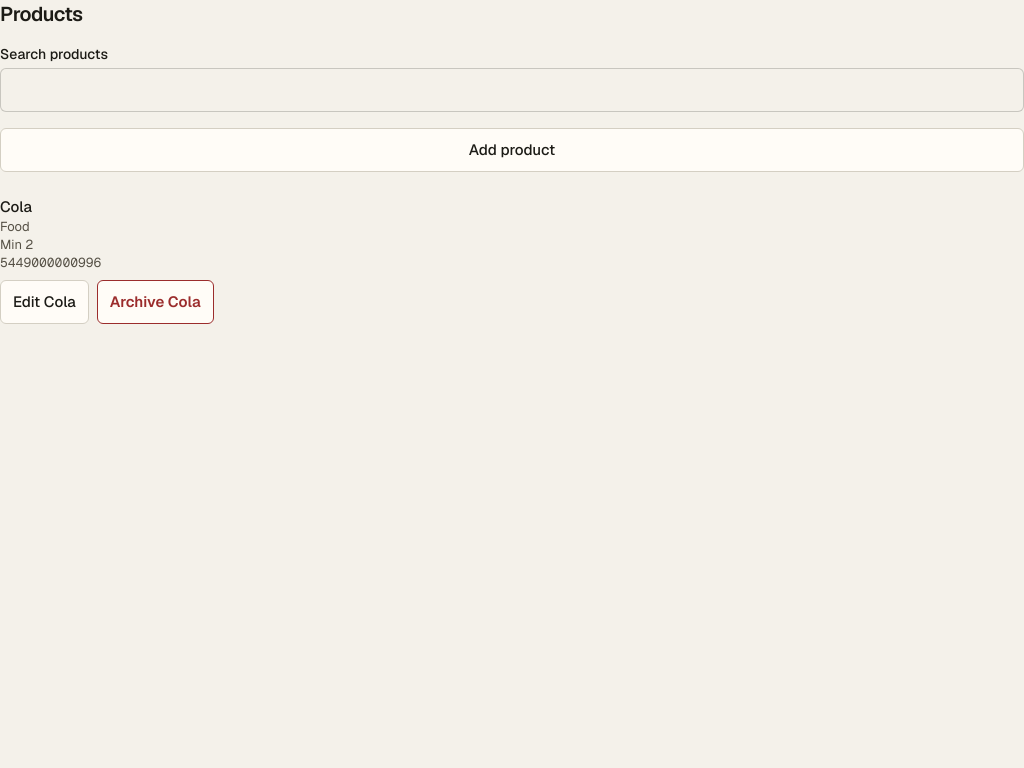
Test: ProductsScreen › shows a barcode on the product card and only on create
Expected: the text "5449000000996" is shown, x1=0 y1=254 x2=101 y2=271
Click the button "Edit Cola" at (44, 302), box x1=0 y1=280 x2=89 y2=324
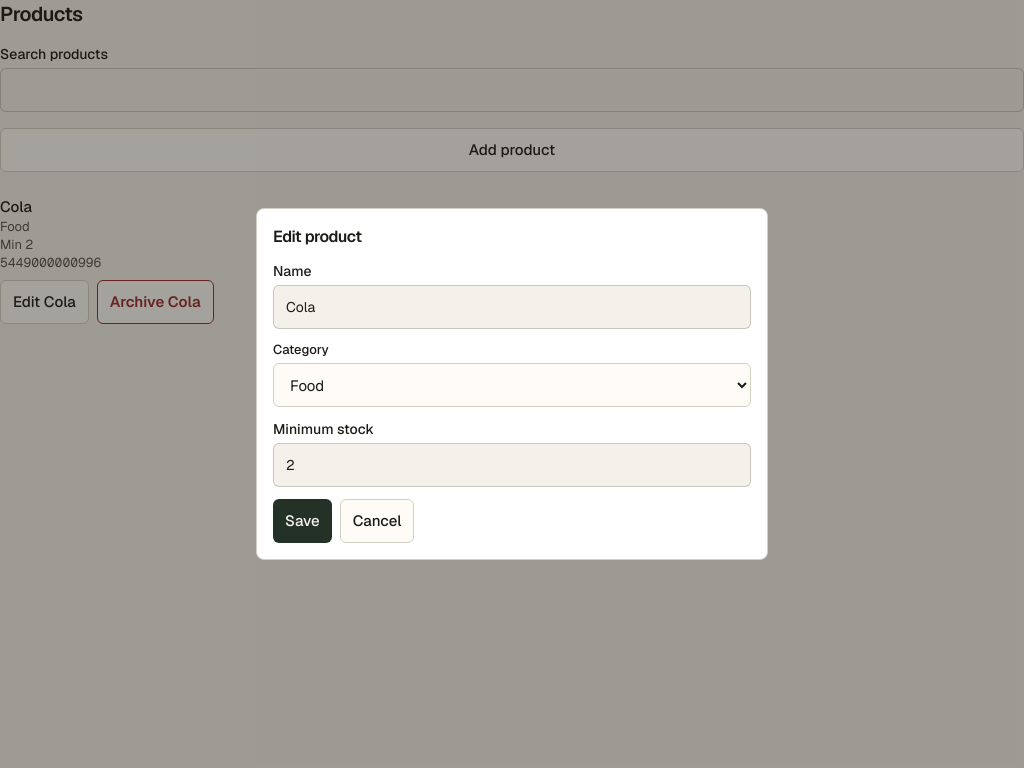
Expected: the field labelled "Barcode" is not shown
Expected: the button "Scan barcode" is not shown
Click the button "Cancel" at (377, 521), box x1=340 y1=499 x2=414 y2=543
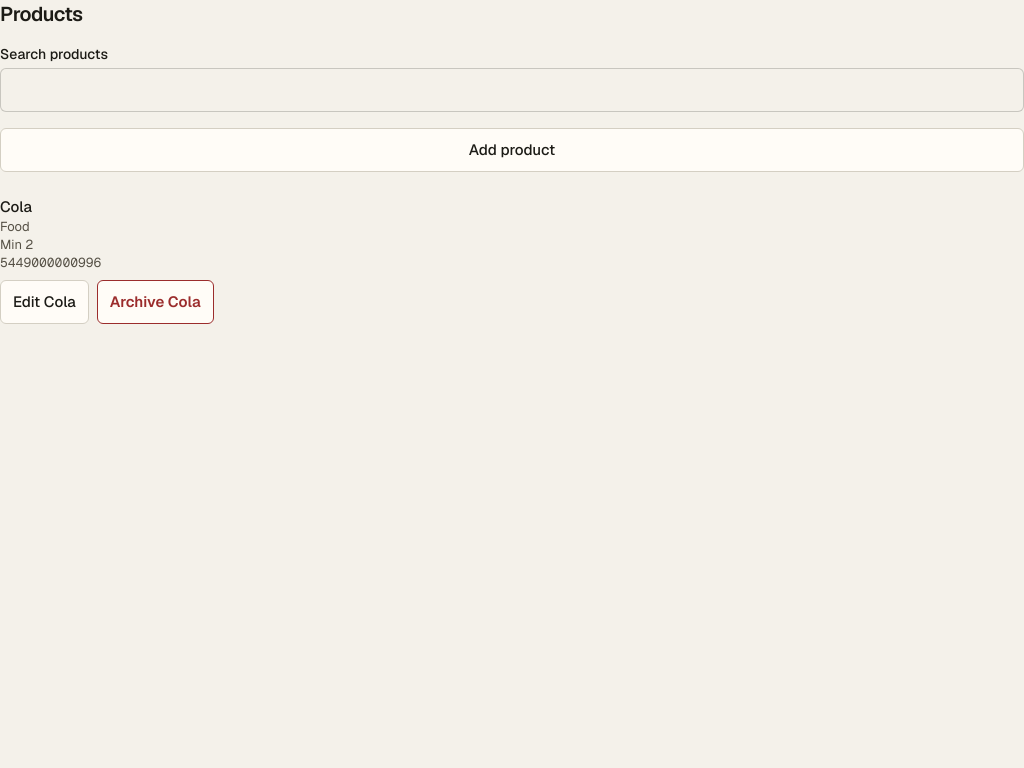
Click the button "Add product" at (512, 150), box x1=0 y1=128 x2=1023 y2=172
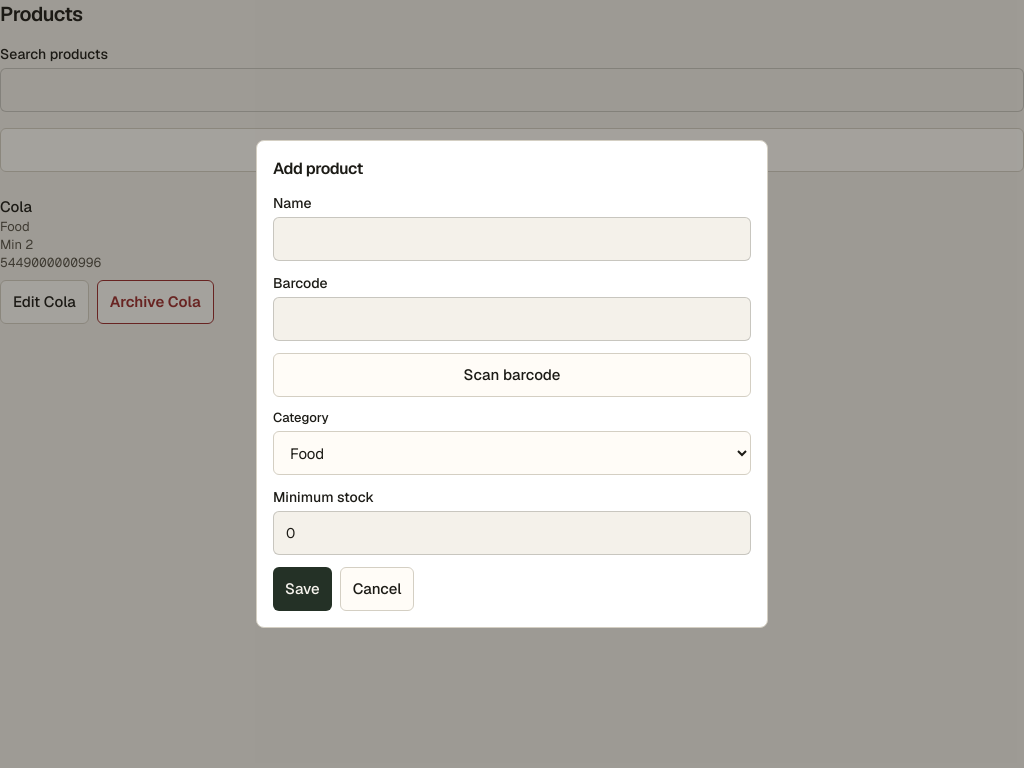
Now the field labelled "Barcode" is shown, box x1=273 y1=297 x2=751 y2=341
Now the button "Scan barcode" is shown, box x1=273 y1=353 x2=751 y2=397
